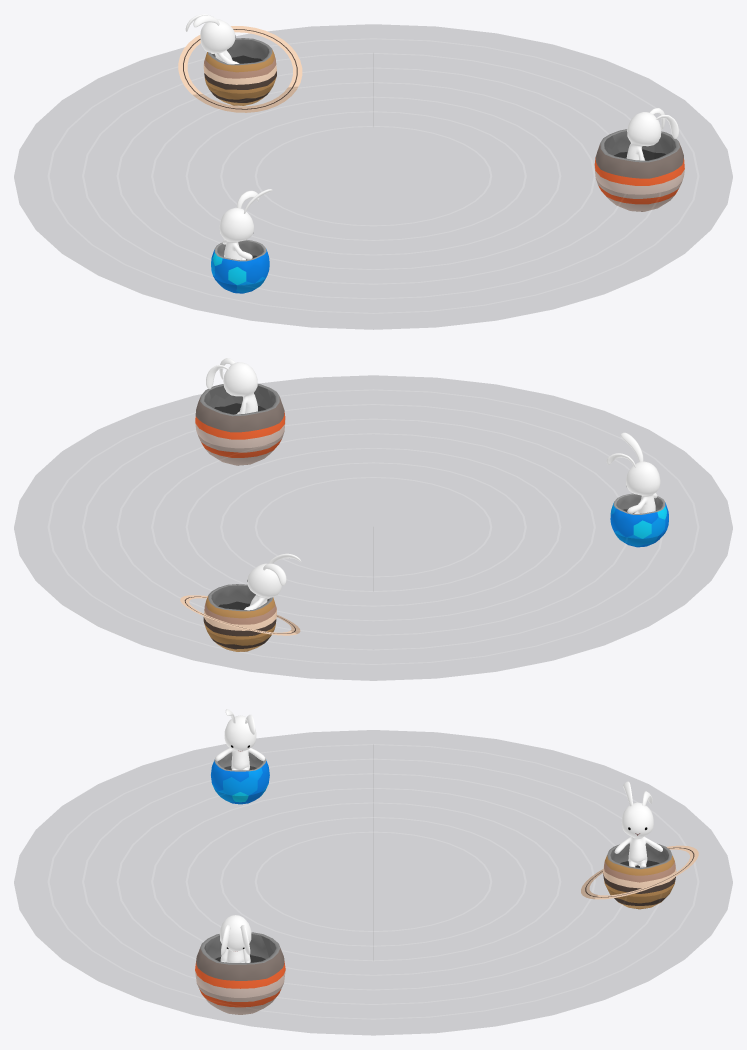
The model's file is solar_system.glb.
The picture shows the model from 3 angles, top to bottom: view 1: azimuth 30°, elevation 25°; view 2: azimuth 150°, elevation 25°; view 3: azimuth 270°, elevation 25°; orthographic projection.
Parts seen in each view (by area): view 1: universe, saturn, jupiter, uranus; view 2: universe, jupiter, saturn, uranus; view 3: universe, jupiter, saturn, uranus.
Boxes of the visible parts, x1,y1,x2,y2 form: universe: (14, 25, 732, 329); saturn: (178, 14, 302, 112); jupiter: (594, 108, 684, 211); uranus: (211, 189, 272, 293); universe: (14, 376, 732, 680); jupiter: (195, 358, 285, 465); saturn: (180, 553, 301, 651); uranus: (606, 432, 668, 547); universe: (14, 730, 732, 1034); jupiter: (195, 915, 285, 1014); saturn: (581, 781, 698, 909); uranus: (211, 709, 269, 804).
Size of the model in its own units: 43.2 by 7.69 by 43.2.
Materials: 2 (2 with a texture image).
